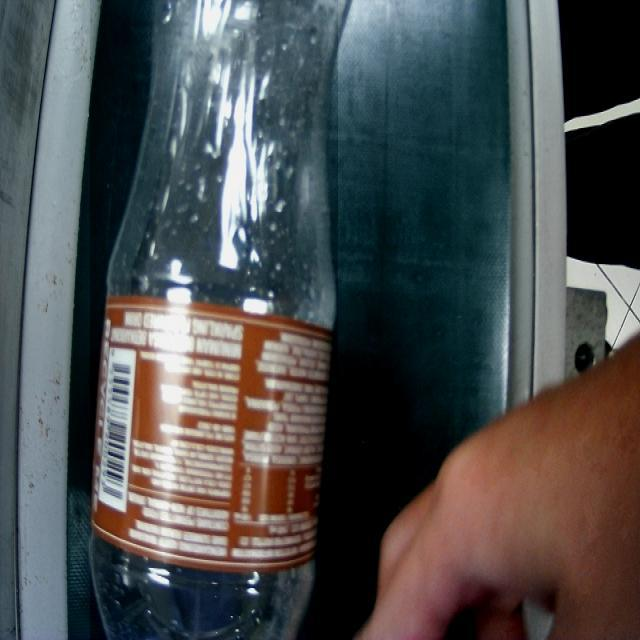Pet_Bottle: (90, 0, 338, 640)
